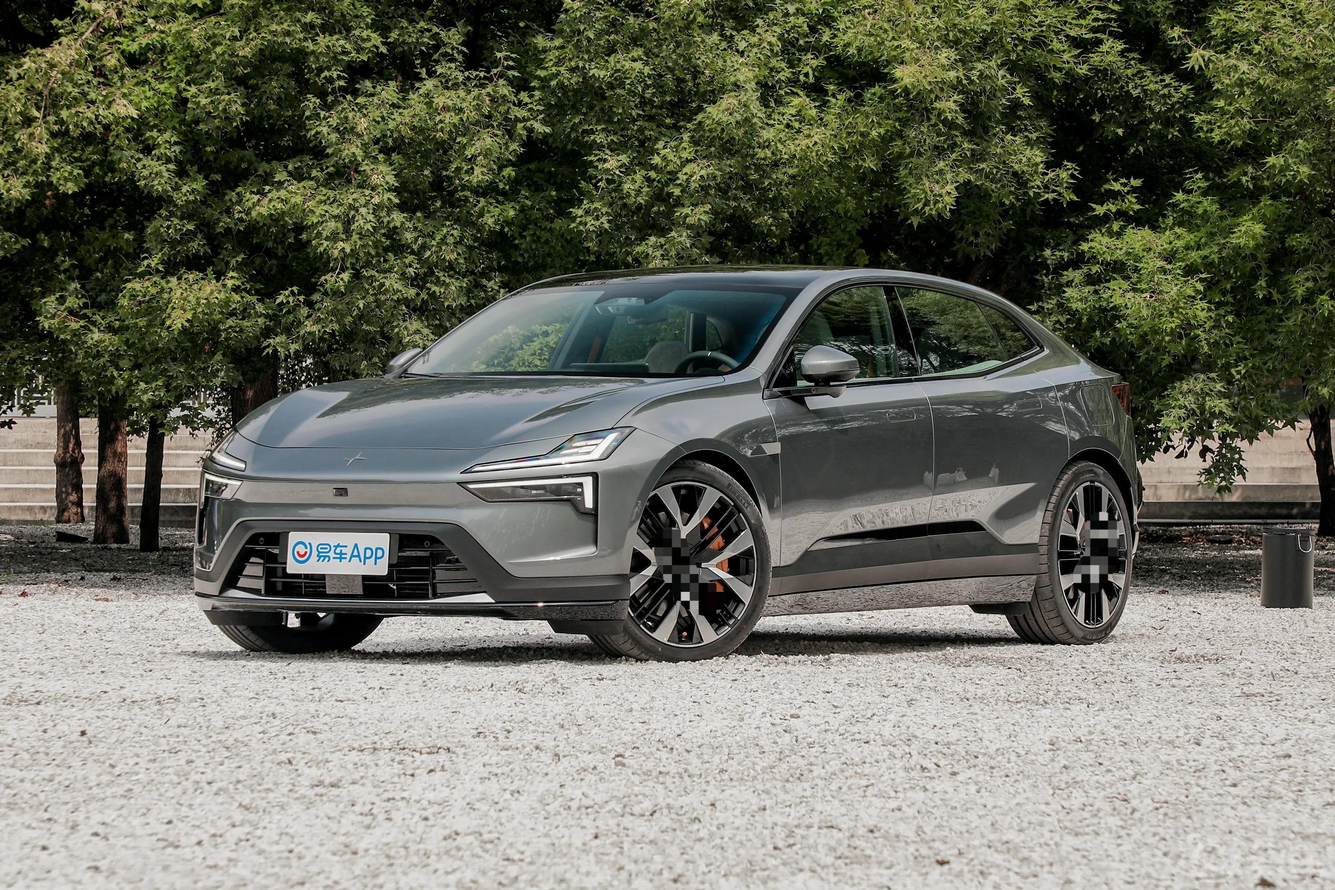Polestar: (344, 452, 366, 465)
